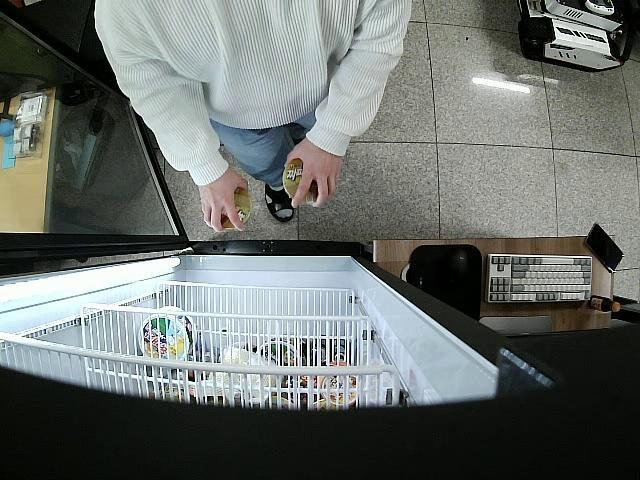04_chapagetti_S: (282, 152, 328, 204), (210, 187, 253, 230)
